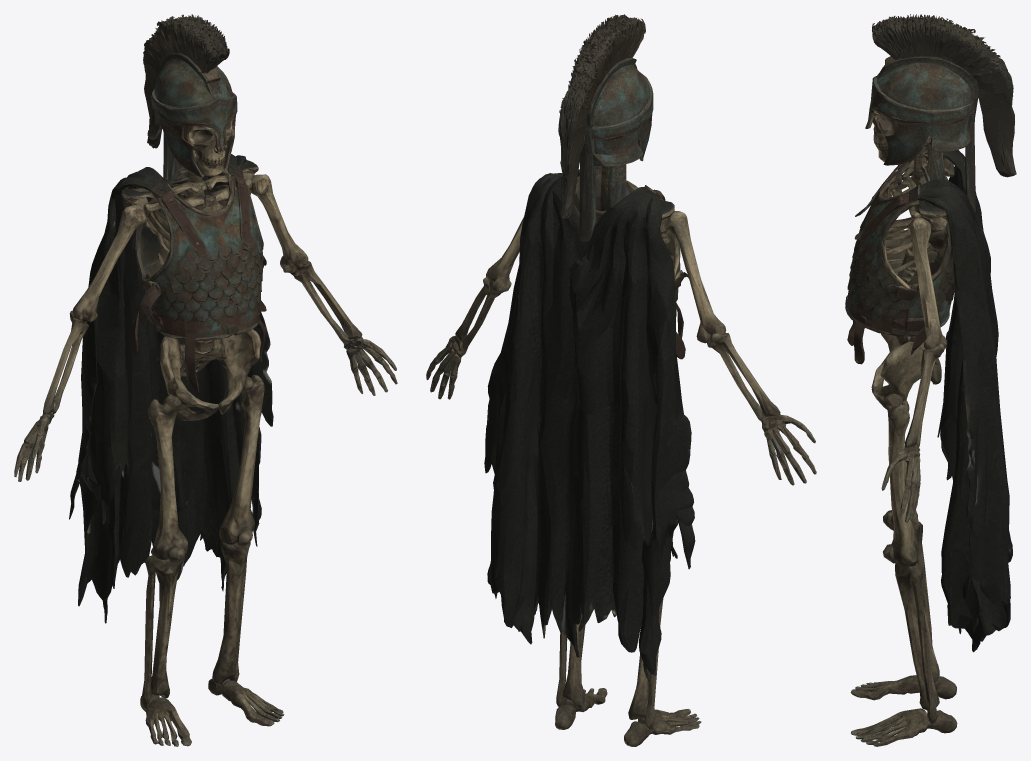
Rendered from skeleton_spearman.glb.
The picture shows the model from 3 angles, left to right: view 1: azimuth 30°, elevation 25°; view 2: azimuth 150°, elevation 25°; view 3: azimuth 270°, elevation 25°; orthographic projection.
Visible parts, largest first — view 1: Mesh_0; view 2: Mesh_0; view 3: Mesh_0.
Boxes of the visible parts, box(x1,y1,x2,y2) form: Mesh_0: box(14, 14, 397, 746); Mesh_0: box(426, 14, 816, 746); Mesh_0: box(845, 14, 1016, 746).
Size of the model in its own units: 1.1 by 1.9 by 0.4227.
1 material, 1 textured.
